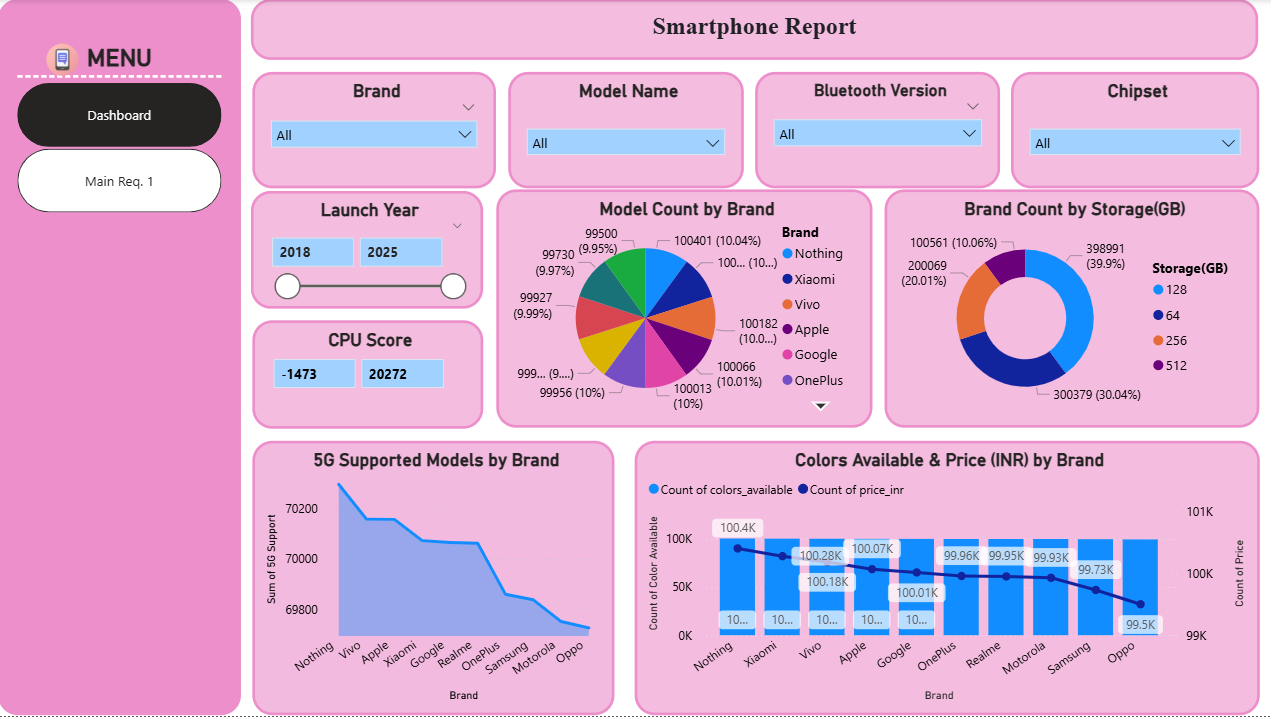

Layout of this report page (visuals, bound fields, positions):
{"tool":"powerbi","page":{"name":"Dashboard","canvas":[1280,720],"ordinal":0},"visuals":[{"type":"pieChart","title":"Model Count by Brand","fields":{"Category":["smartphone_dataset_1M.brand"],"Y":["CountNonNull(smartphone_dataset_1M.model_name)"]},"box":[500.6,191.9,378,239.5],"z":0},{"type":"donutChart","title":"Brand Count by Storage(GB)","fields":{"Category":["smartphone_dataset_1M.storage_gb"],"Y":["CountNonNull(smartphone_dataset_1M.brand)"]},"box":[890.1,191.9,376.5,239.5],"z":1000},{"type":"textbox","box":[254.6,0,1012,61],"z":2000},{"type":"stackedAreaChart","title":"5G Supported Models by Brand","fields":{"Category":["smartphone_dataset_1M.brand"],"Y":["Sum(smartphone_dataset_1M.5g_support)"]},"box":[255.8,443.4,363.7,275.7],"z":3000},{"type":"lineStackedColumnComboChart","title":"Colors Available & Price (INR) by Brand","fields":{"Category":["smartphone_dataset_1M.brand"],"Y":["CountNonNull(smartphone_dataset_1M.colors_available)"],"Y2":["CountNonNull(smartphone_dataset_1M.price_inr)"]},"box":[639.4,443.4,627.8,275.7],"z":4000},{"type":"slicer","title":"Launch Year","fields":{"Values":["smartphone_dataset_1M.launch_year"]},"box":[254.5,192.9,233.4,118.3],"z":5000},{"type":"slicer","title":"Brand ","fields":{"Values":["smartphone_dataset_1M.brand"]},"box":[256.1,72.9,244.7,116.7],"z":6000},{"type":"slicer","title":"Bluetooth Version","fields":{"Values":["smartphone_dataset_1M.bluetooth_version"]},"box":[760.1,72.9,246.4,116.7],"z":7000},{"type":"slicer","title":"Chipset","fields":{"Values":["smartphone_dataset_1M.chipset"]},"box":[1017.8,72.9,249.6,116.7],"z":8000},{"type":"shape","box":[0,0,244.3,719.1],"z":9000},{"type":"pageNavigator","title":"MENU","box":[20,45,205,171.7],"z":10000},{"type":"slicer","title":"CPU Score","fields":{"Values":["smartphone_dataset_1M.cpu_score"]},"box":[256.1,322.5,231.8,108.6],"z":11000},{"type":"image","box":[35.6,45.6,57.8,32.2],"z":12000},{"type":"slicer","title":"Model Name","fields":{"Values":["smartphone_dataset_1M.model_name"]},"box":[512.2,72.9,236.6,116.7],"z":13000}]}

Visuals, with their boxes in screenshot pixels (x1, y1, x2, y2), scaled from the page's 1280x720 canvas onto the 1271x717 screenshot:
"Model Count by Brand" pieChart: (497, 191, 872, 430)
"Brand Count by Storage(GB)" donutChart: (884, 191, 1258, 430)
textbox: (253, 0, 1258, 61)
"5G Supported Models by Brand" stackedAreaChart: (254, 442, 615, 716)
"Colors Available & Price (INR) by Brand" lineStackedColumnComboChart: (635, 442, 1258, 716)
"Launch Year" slicer: (253, 192, 484, 310)
"Brand " slicer: (254, 73, 497, 189)
"Bluetooth Version" slicer: (755, 73, 999, 189)
"Chipset" slicer: (1011, 73, 1258, 189)
shape: (0, 0, 243, 716)
"MENU" pageNavigator: (20, 45, 223, 216)
"CPU Score" slicer: (254, 321, 484, 429)
image: (35, 45, 93, 77)
"Model Name" slicer: (509, 73, 744, 189)
